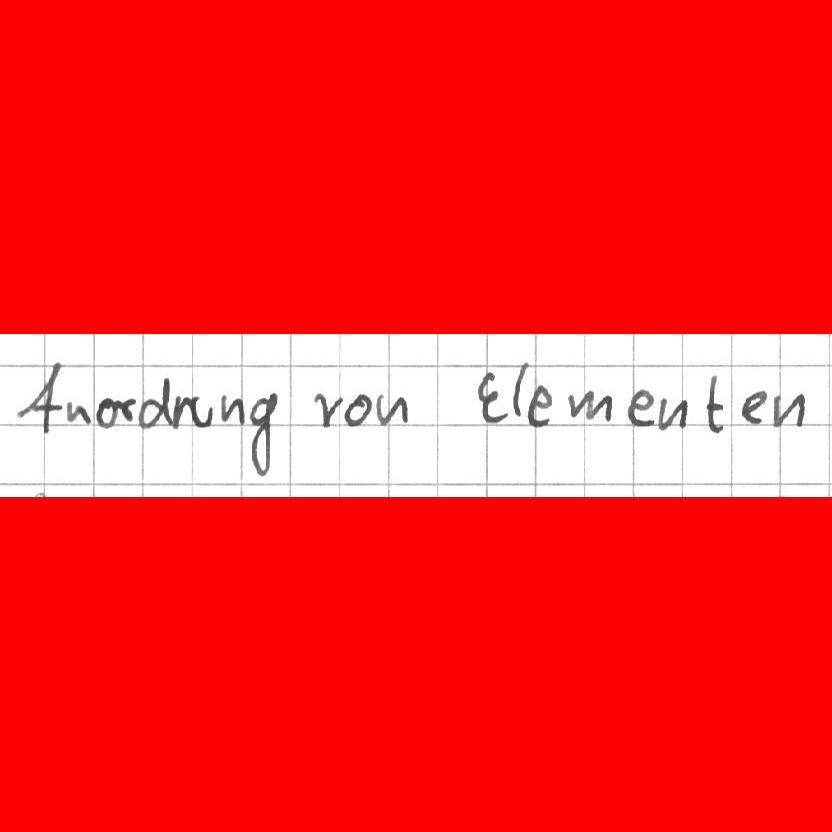Char: (17, 363, 62, 433), (135, 373, 174, 433), (248, 394, 276, 476), (476, 368, 509, 428), (566, 389, 611, 425), (771, 388, 806, 429), (704, 369, 726, 434), (656, 393, 690, 432), (626, 387, 656, 429), (374, 390, 407, 427), (526, 383, 553, 428), (181, 392, 213, 429), (312, 391, 343, 429), (510, 360, 529, 417), (344, 392, 372, 427), (740, 388, 766, 425), (219, 391, 244, 427), (94, 395, 116, 430), (63, 398, 90, 426), (114, 396, 138, 422)
